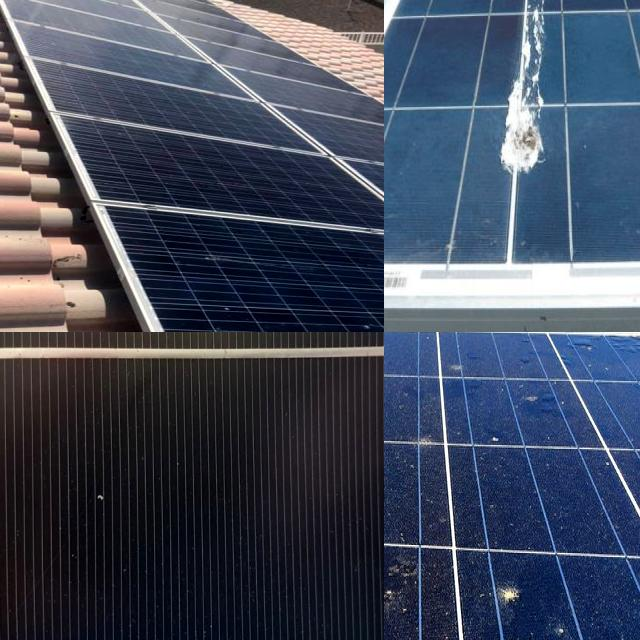bird: (499, 0, 560, 186), (384, 552, 439, 606), (384, 559, 426, 620), (405, 418, 453, 464), (384, 527, 415, 593), (384, 603, 433, 640), (481, 584, 536, 615), (521, 388, 561, 426), (384, 484, 415, 533), (434, 346, 466, 381), (384, 369, 406, 413), (384, 608, 413, 640), (384, 410, 400, 460)
dust: (169, 239, 384, 332)
shadow: (110, 332, 384, 421)
